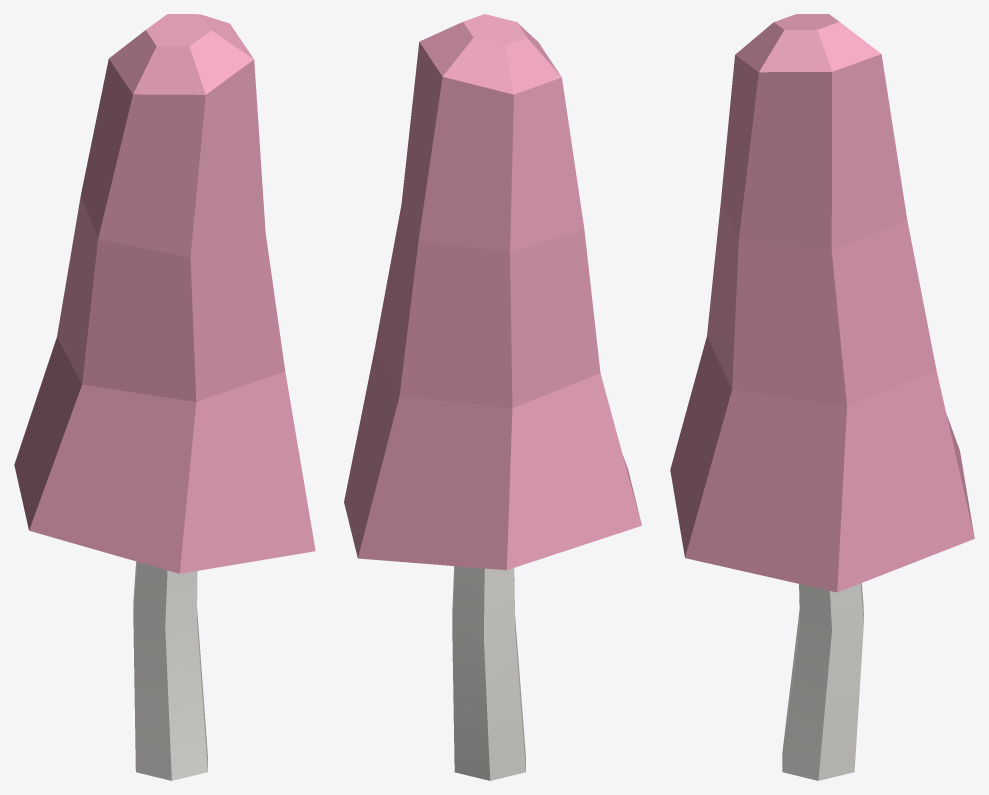
File: Plants_Pack_Mushroom_part_01.004.fbx
The picture shows the model from 3 angles, left to right: view 1: azimuth 30°, elevation 25°; view 2: azimuth 150°, elevation 25°; view 3: azimuth 270°, elevation 25°; orthographic projection.
Visible parts, largest first — view 1: Plants_Pack_Mushroom_part_01.004; view 2: Plants_Pack_Mushroom_part_01.004; view 3: Plants_Pack_Mushroom_part_01.004.
Boxes of the visible parts, x1,y1,x2,y2 form: Plants_Pack_Mushroom_part_01.004: (14, 14, 315, 780); Plants_Pack_Mushroom_part_01.004: (344, 14, 641, 780); Plants_Pack_Mushroom_part_01.004: (670, 14, 974, 780).
Bounding box in the file's own units: 16.91 × 41.88 × 15.47.
